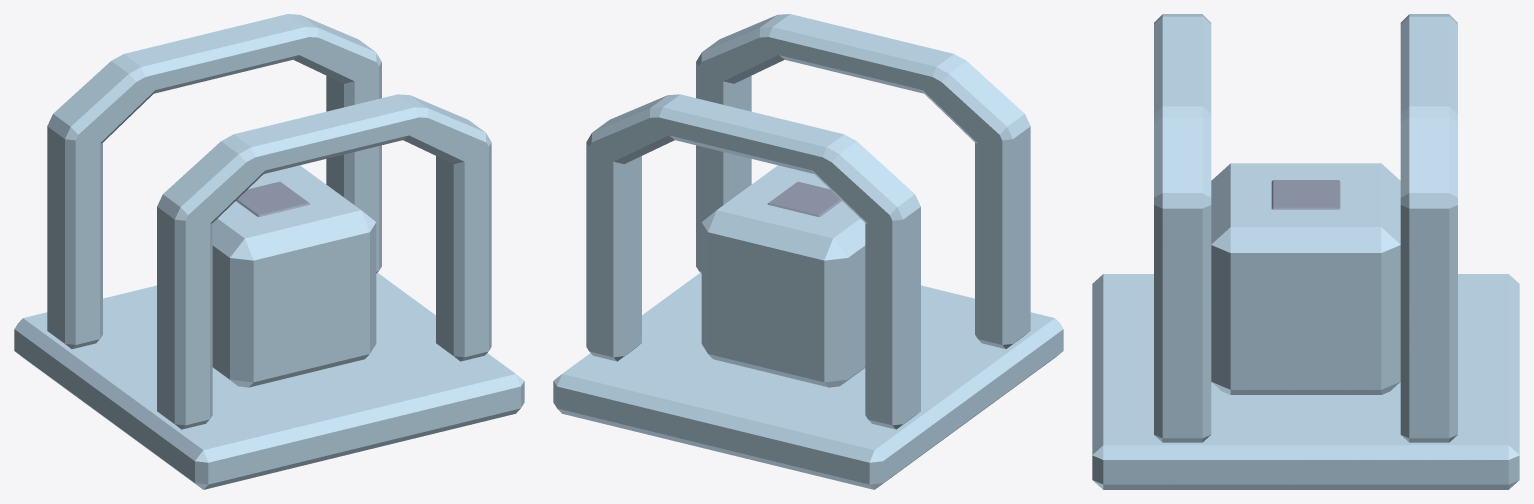
File: R4X_ModuleDurabilityBooster_LOD1.glb
3 views of the same model, side by side, from view 1: azimuth 30°, elevation 25°; view 2: azimuth 150°, elevation 25°; view 3: azimuth 270°, elevation 25° (orthographic). The views are drawn at different scales.
Visible parts, largest first — view 1: R4X_ModuleDurabilityBooster_LOD1; view 2: R4X_ModuleDurabilityBooster_LOD1; view 3: R4X_ModuleDurabilityBooster_LOD1.
Boxes of the visible parts, box(x1,y1,x2,y2) form: R4X_ModuleDurabilityBooster_LOD1: box(14, 14, 524, 489); R4X_ModuleDurabilityBooster_LOD1: box(553, 14, 1063, 489); R4X_ModuleDurabilityBooster_LOD1: box(1092, 14, 1519, 489).
Size of the model in its own units: 0.52 by 0.46 by 0.52.
